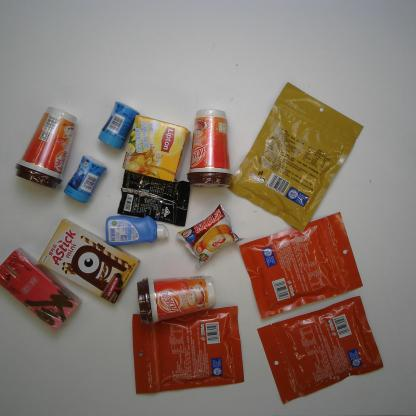Dessert: (38, 219, 140, 303), (176, 204, 243, 269)
Dried Fruit: (226, 83, 364, 231), (257, 296, 384, 405), (239, 213, 363, 319), (132, 306, 244, 394)
Gum: (97, 101, 140, 149), (64, 156, 106, 204)
Instant Drink: (0, 248, 82, 330), (15, 108, 77, 188), (123, 115, 191, 181), (116, 170, 191, 227), (138, 276, 216, 325), (186, 108, 233, 186)
Personal Hygiene: (106, 216, 168, 246)
